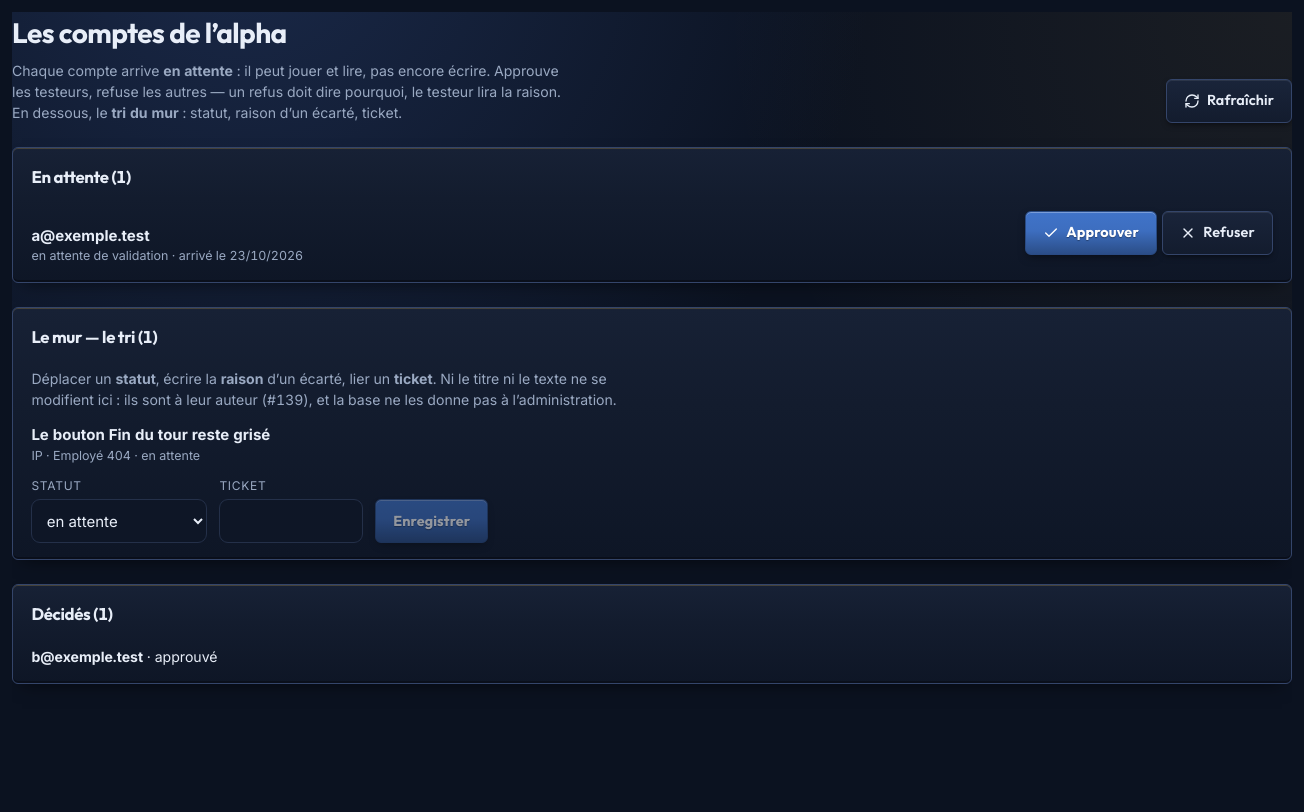
Test case: le tri du mur par l’administration (#0006, D-088) › un refus de la base se lit, et rien ne prétend avoir été trié
Check: the text "Le bouton Fin du tour reste grisé" is shown, box [31,425,270,444]
Select "retenu" in the dropdown named "Statut de « Le bouton Fin du tour reste grisé »": (119, 521) [31,499,207,543]
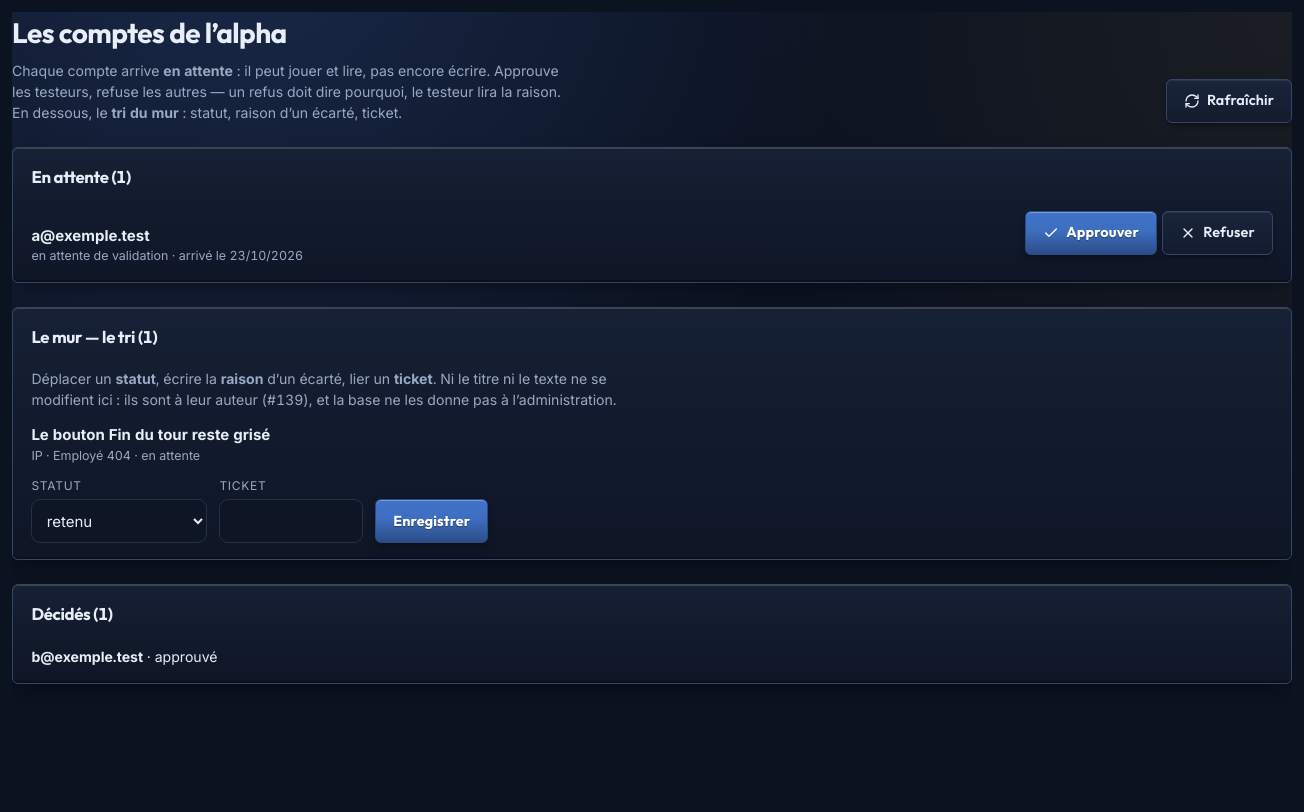
Click the button with aria-label "Enregistrer le tri": (432, 521) [375,499,488,543]
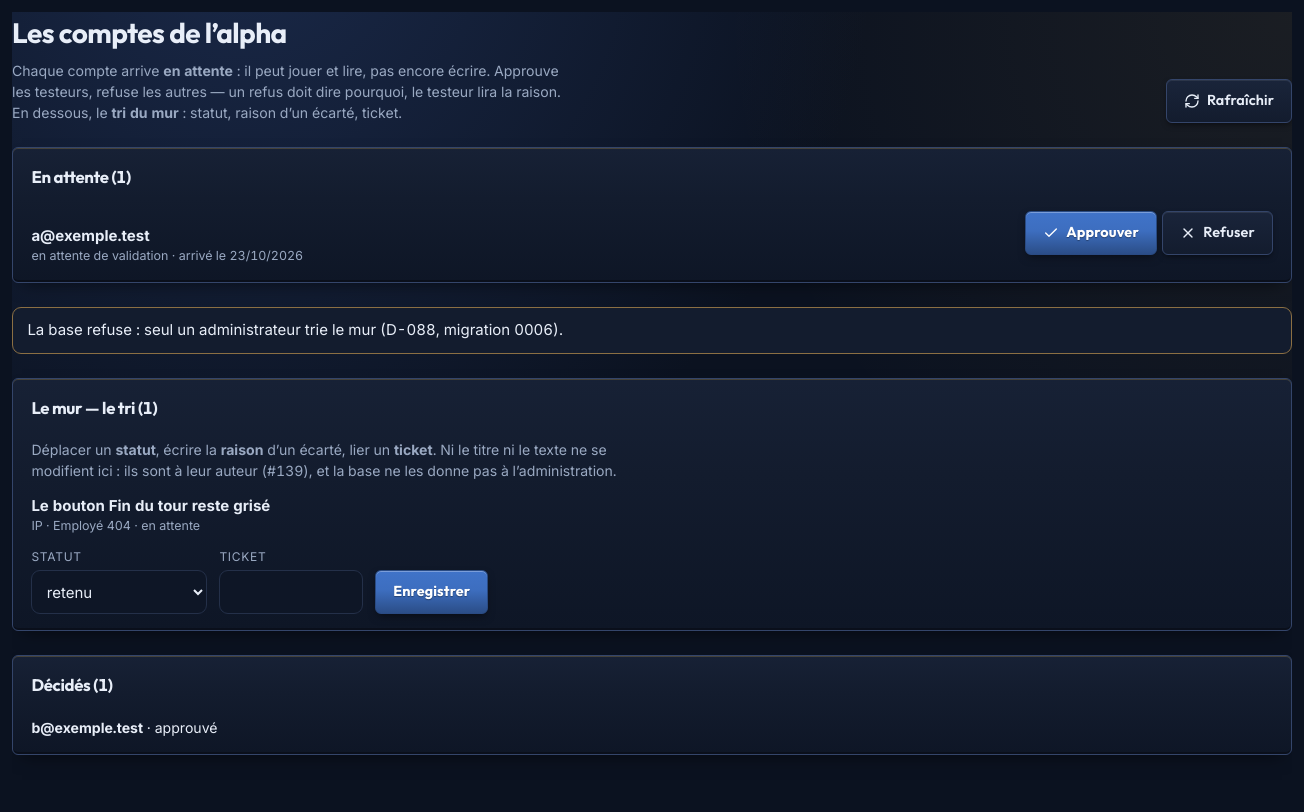
Check: the list item that starts with "Le bouton Fin du tour reste grisé" shows "IP · Employé 404 · en attente", box [31,496,488,614]
Check: the message shows "seul un administrateur trie le mur", box [27,320,563,339]
